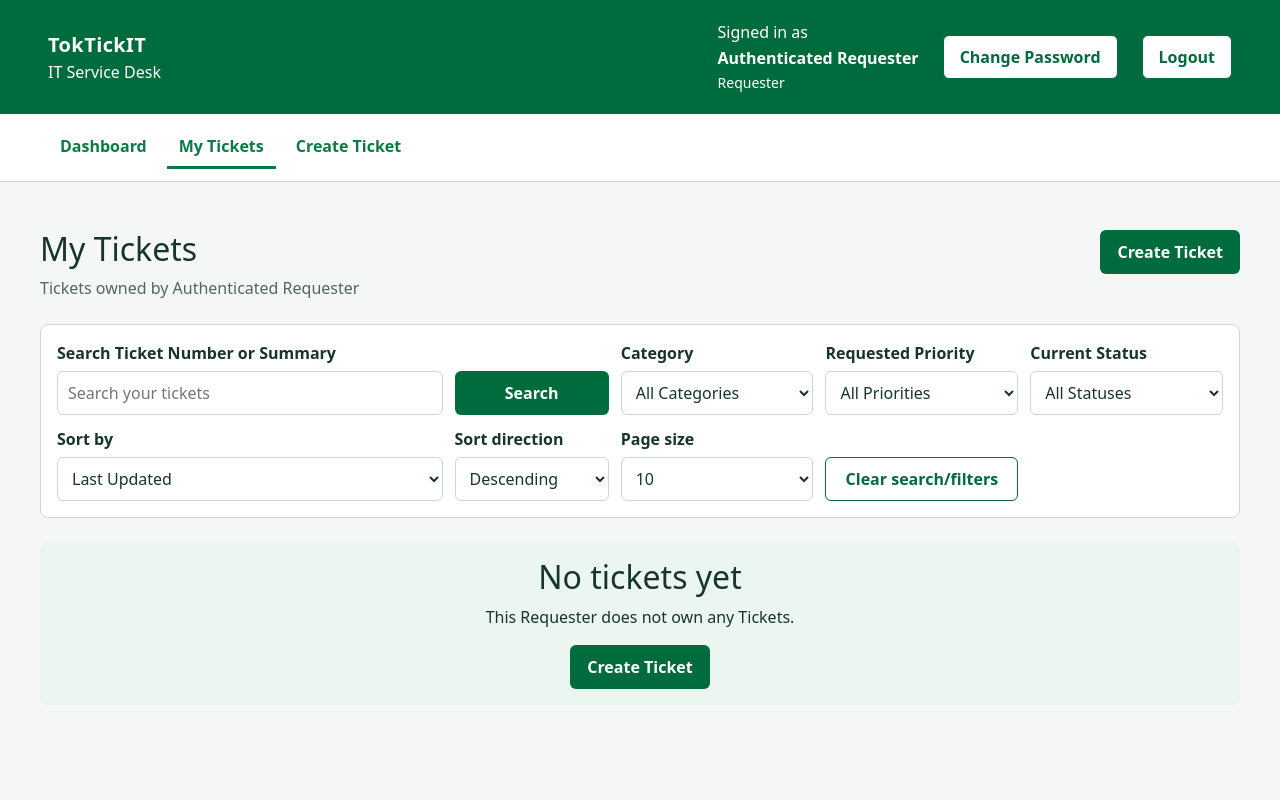
Test case: UI-01 authenticated shell and routing › clears protected shell state only after successful logout
Click the button "Logout".
click(1187, 56)  # box [1142, 34, 1232, 78]
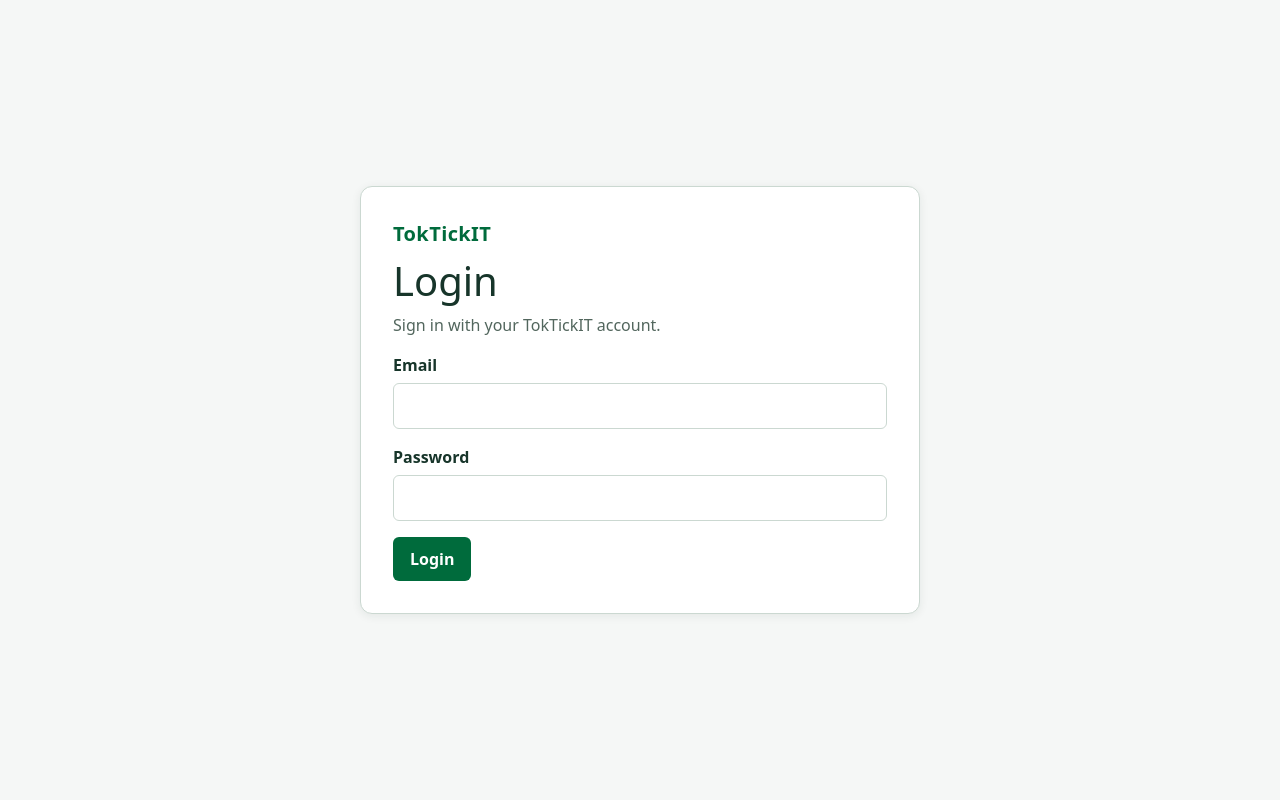
Result: the heading "Login" is shown at [393, 253, 498, 308]
Result: the text "Authenticated Requester" is gone
